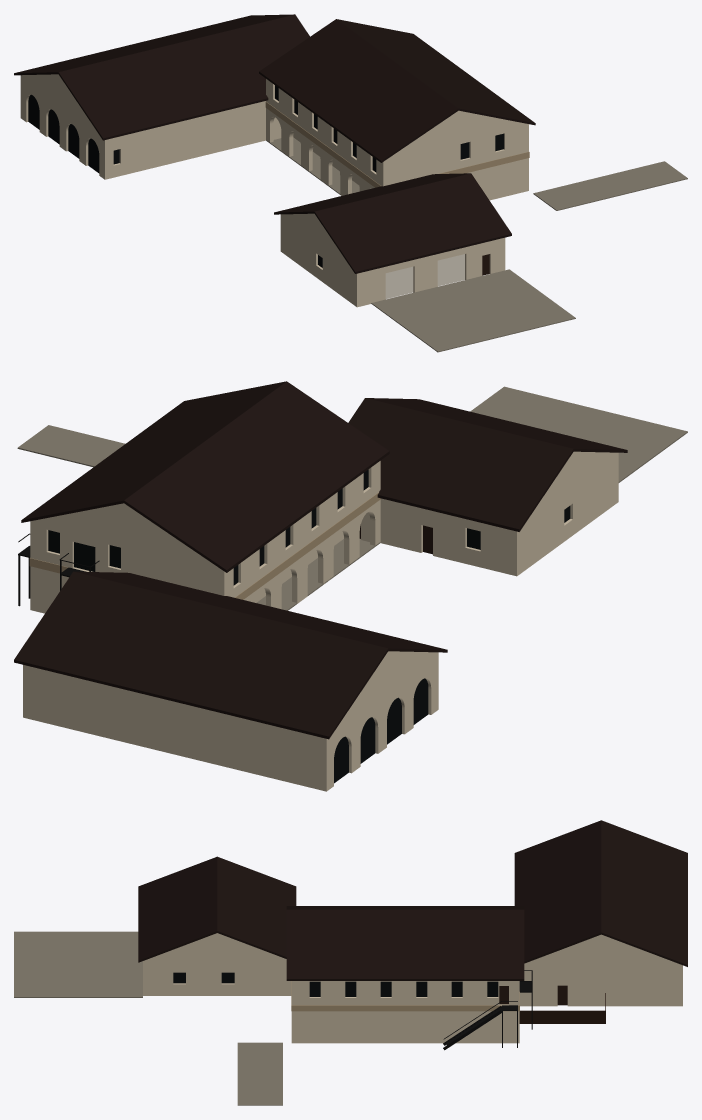
File: 7824-zero-rd.obj
The picture shows the model from 3 angles, top to bottom: view 1: azimuth 30°, elevation 25°; view 2: azimuth 150°, elevation 25°; view 3: azimuth 270°, elevation 25°; orthographic projection. The views are drawn at different scales.
Parts seen in each view (by area): view 1: roof, wall, driveway_apron, gable, east_slab, glass, garage, floor_band, loggia_floor; view 2: roof, wall, gable, driveway_apron, glass, east_slab, floor_band, loggia_floor; view 3: roof, wall, driveway_apron, gable, east_slab, floor_band, glass, fence.
Part boxes in pixels (x1,y1,x2,y2): roof: [14, 14, 535, 273]; wall: [20, 76, 528, 307]; driveway_apron: [371, 269, 575, 352]; gable: [20, 74, 528, 265]; east_slab: [533, 161, 687, 210]; glass: [28, 85, 503, 267]; garage: [385, 254, 464, 298]; floor_band: [265, 101, 529, 187]; loggia_floor: [266, 137, 359, 194]; roof: [14, 381, 627, 739]; wall: [23, 454, 618, 791]; gable: [30, 451, 618, 727]; driveway_apron: [470, 386, 687, 482]; glass: [48, 469, 570, 783]; east_slab: [17, 425, 125, 467]; floor_band: [29, 492, 380, 599]; loggia_floor: [256, 539, 380, 610]; roof: [138, 820, 687, 980]; wall: [143, 961, 682, 1043]; driveway_apron: [14, 931, 142, 997]; gable: [144, 933, 681, 965]; east_slab: [237, 1042, 282, 1105]; floor_band: [291, 981, 519, 1011]; glass: [173, 972, 498, 996]; fence: [519, 993, 605, 1023].
Size of what is drawn, in the model's own units: 154 by 34.65 by 209.
